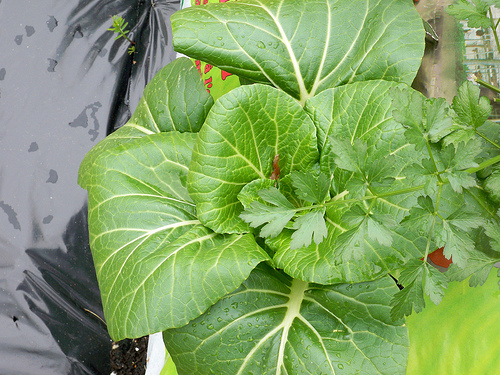cabbage: (78, 3, 470, 374)
